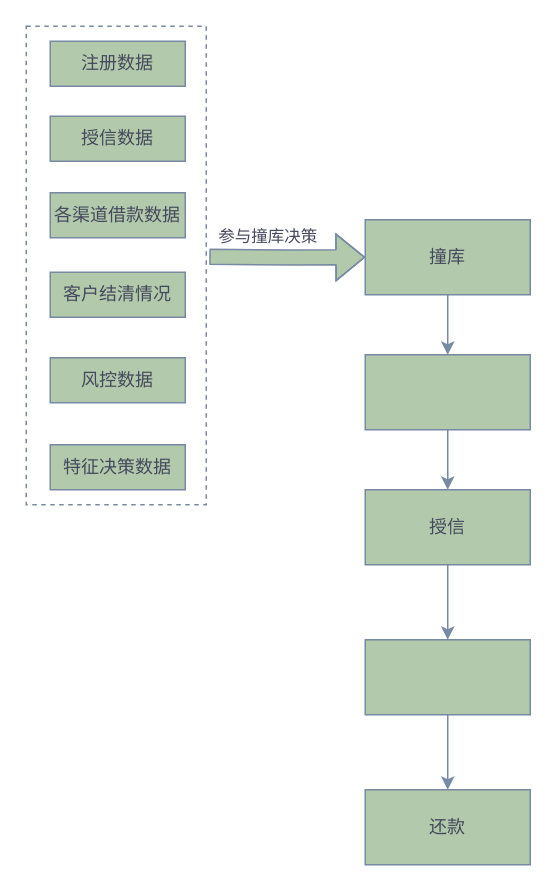
This 557x891 diagram has some shape labels left out. The shapes that lost their labels are listed below. From the top down, each one's box as (x1, y1, x2, y2) in pixels, then its label:
(364, 353, 530, 430): 注册
(364, 638, 530, 715): 借款
